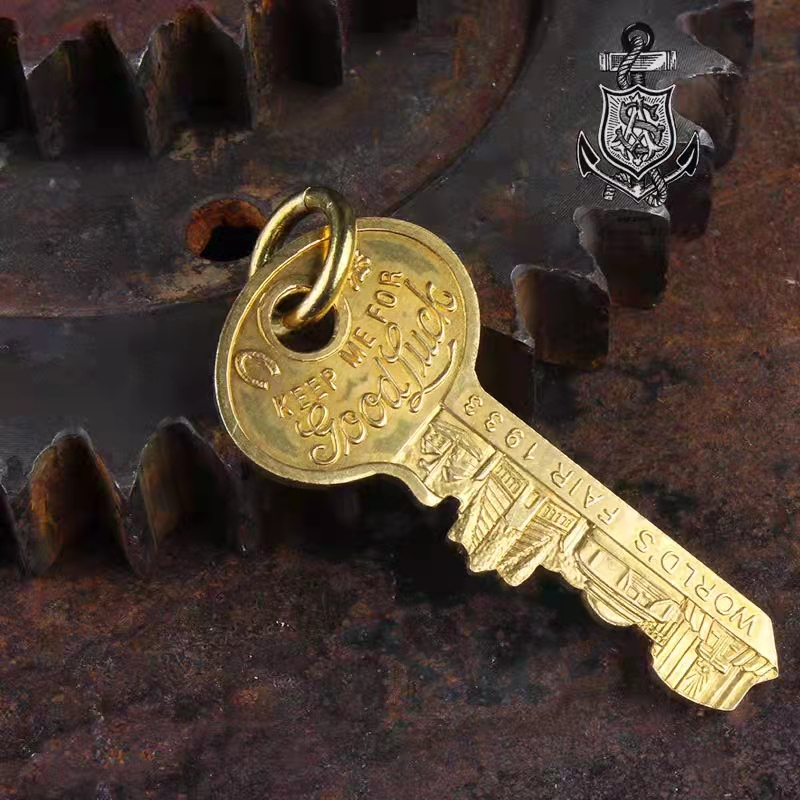key: (205, 213, 790, 722)
